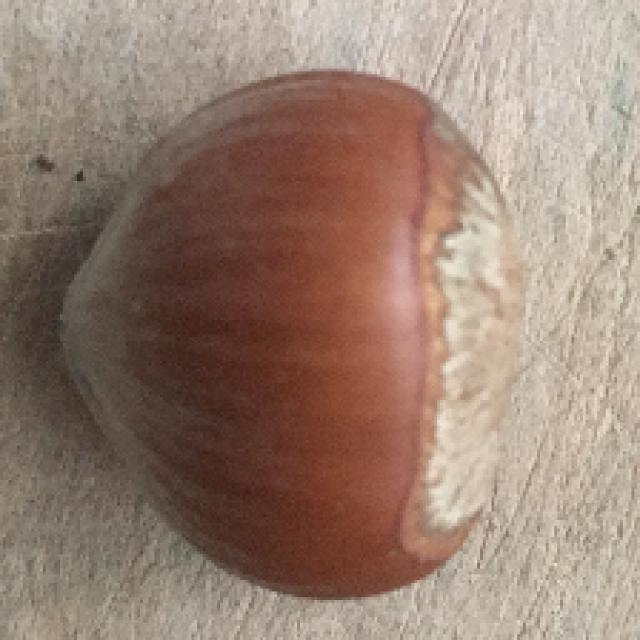QualityHazelnut: (59, 73, 532, 601)
